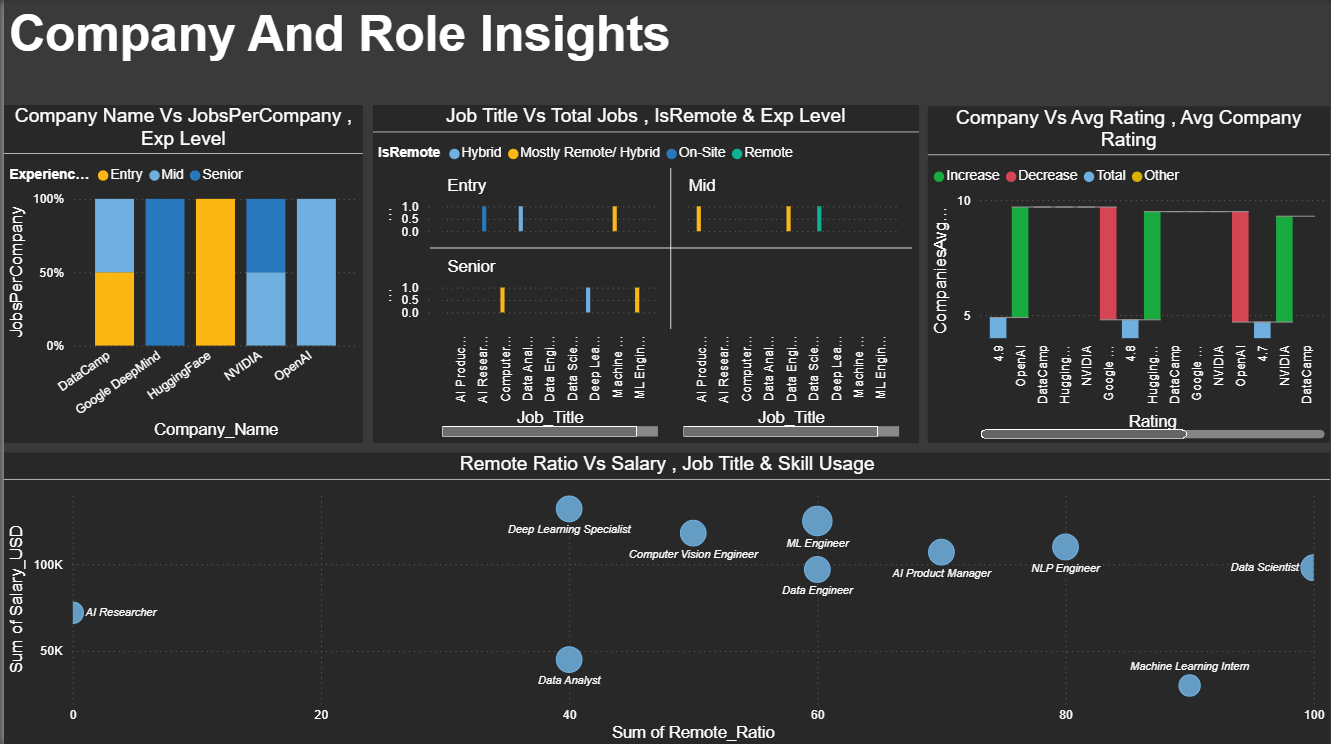

This screenshot's page, from the dashboard's own definition file:
{"tool":"powerbi","page":{"name":"Company And Role Insights","canvas":[1280,720],"ordinal":2},"visuals":[{"type":"textbox","box":[0,0,656.3,101.3],"z":0},{"type":"hundredPercentStackedColumnChart","title":"Company Name Vs JobsPerCompany , Exp Level","fields":{"Category":["Dim_Companies.Company_Name"],"Y":["Dim_Companies.JobsPerCompany"],"Series":["Fact_Jobs.Experience_Level"]},"box":[0,101.1,346.3,326.1],"z":1},{"type":"clusteredColumnChart","title":"Job Title Vs Total Jobs , IsRemote & Exp Level ","fields":{"Y":["Fact_Jobs.TotalJobs"],"Category":["Fact_Jobs.Job_Title"],"Series":["Fact_Jobs.IsRemote"],"Rows":["Fact_Jobs.Experience_Level"]},"box":[355.8,101.1,526.9,326.1],"z":2},{"type":"waterfallChart","title":"Company Vs Avg Rating , Avg Company Rating","fields":{"Category":["Dim_Companies.Rating"],"Breakdown":["Dim_Companies.Company_Name"],"Y":["Dim_Companies.CompaniesAvgRating"]},"box":[892.1,102.4,388.1,324.8],"z":3},{"type":"scatterChart","title":"Remote Ratio Vs Salary , Job Title & Skill Usage","fields":{"Category":["Fact_Jobs.Job_Title"],"X":["Sum(Fact_Jobs.Remote_Ratio)"],"Y":["Sum(Fact_Jobs.Salary_USD)"],"Size":["Dim_Skills.SkillUsageCount"]},"box":[0,436.6,1280.3,283],"z":4}]}

Visuals, with their boxes in screenshot pixels (x1, y1, x2, y2), scaled from the page's 1280x720 canvas onto the 1331x744 screenshot:
textbox: [0,0,682,105]
"Company Name Vs JobsPerCompany , Exp Level" hundredPercentStackedColumnChart: [0,104,360,441]
"Job Title Vs Total Jobs , IsRemote & Exp Level " clusteredColumnChart: [370,104,918,441]
"Company Vs Avg Rating , Avg Company Rating" waterfallChart: [928,106,1330,441]
"Remote Ratio Vs Salary , Job Title & Skill Usage" scatterChart: [0,451,1330,743]
